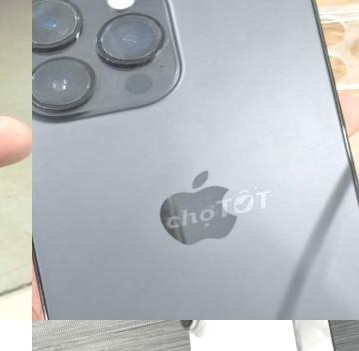scratch: (32, 43, 108, 117), (32, 0, 84, 55), (139, 7, 185, 67)
